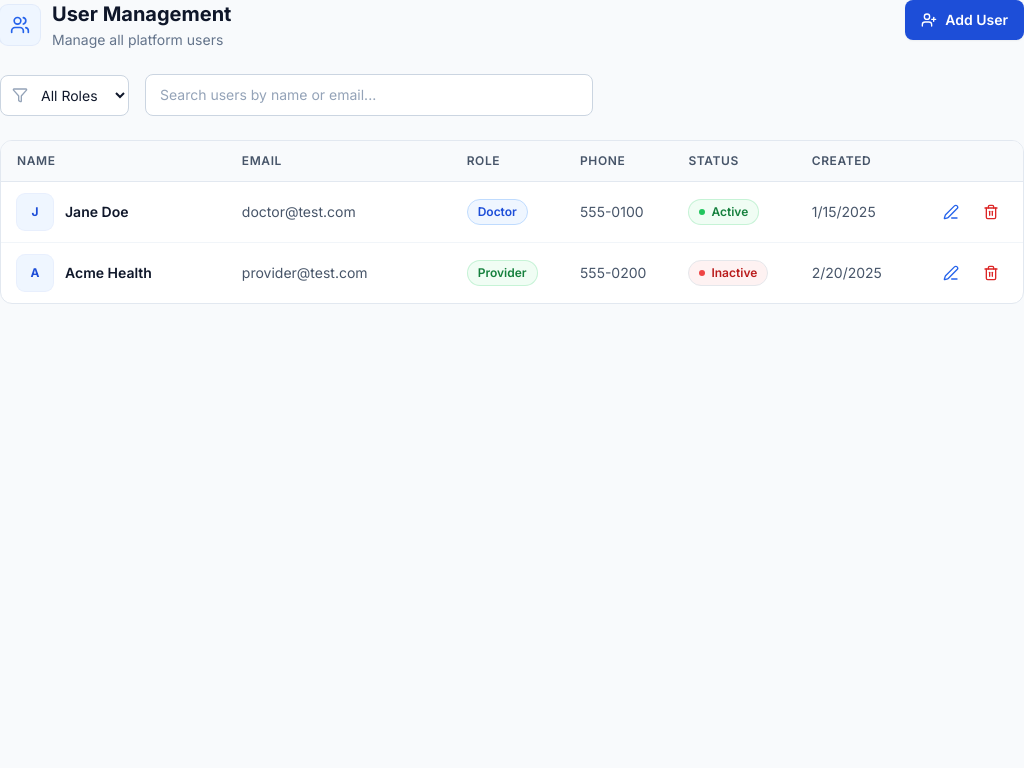
Test: UserManagement › opens the Add User modal when clicking Add User button
This screenshot has width=1024, height=768.
Expected: the text "Jane Doe" is shown, top-left (65, 202), bottom-right (128, 222)
Click the button "Add User": (965, 20) top-left (905, 0), bottom-right (1023, 40)
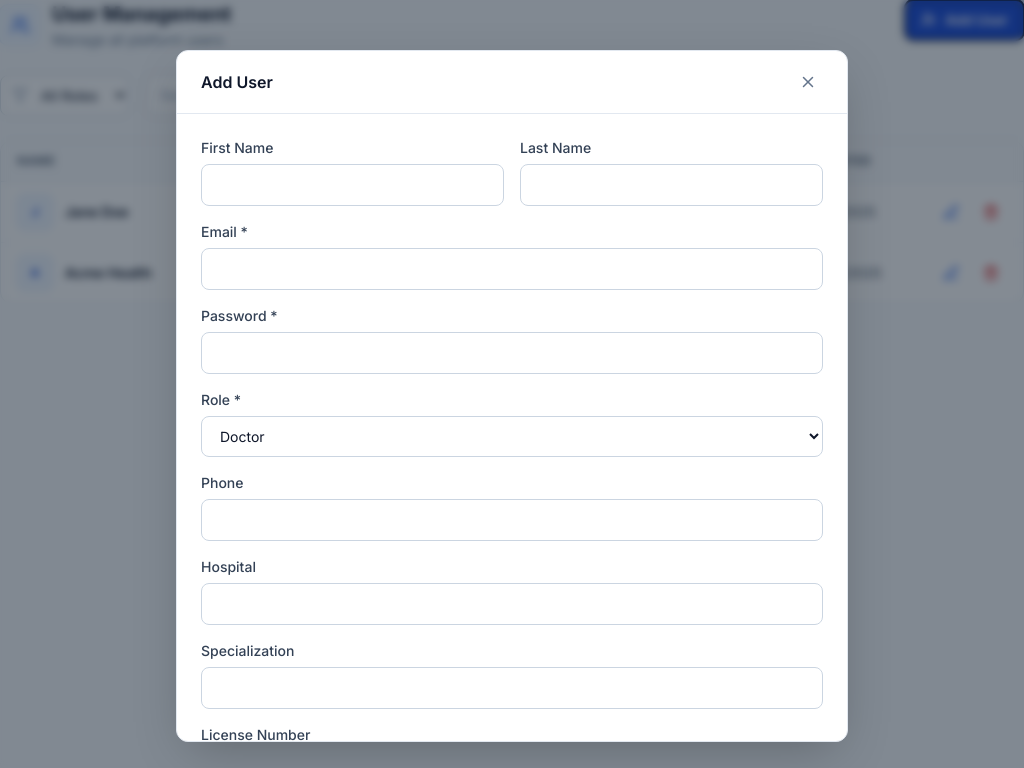
Expected: the heading "Add User" is shown, top-left (201, 70), bottom-right (273, 94)
